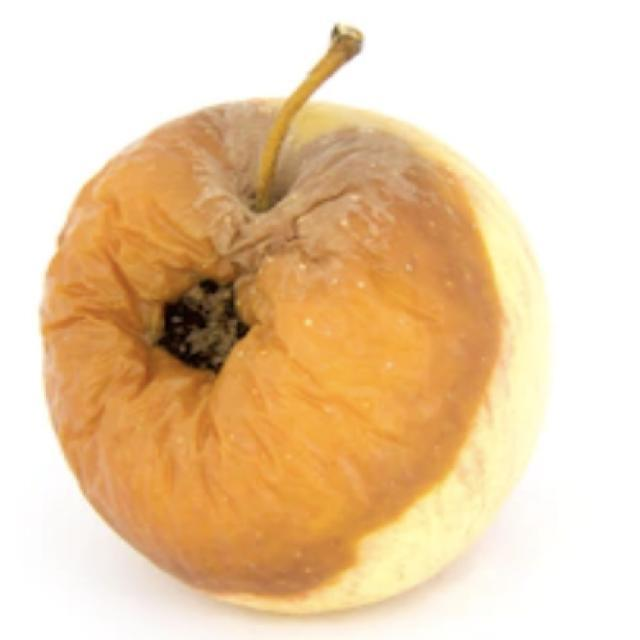Rotten: (27, 110, 518, 603)
